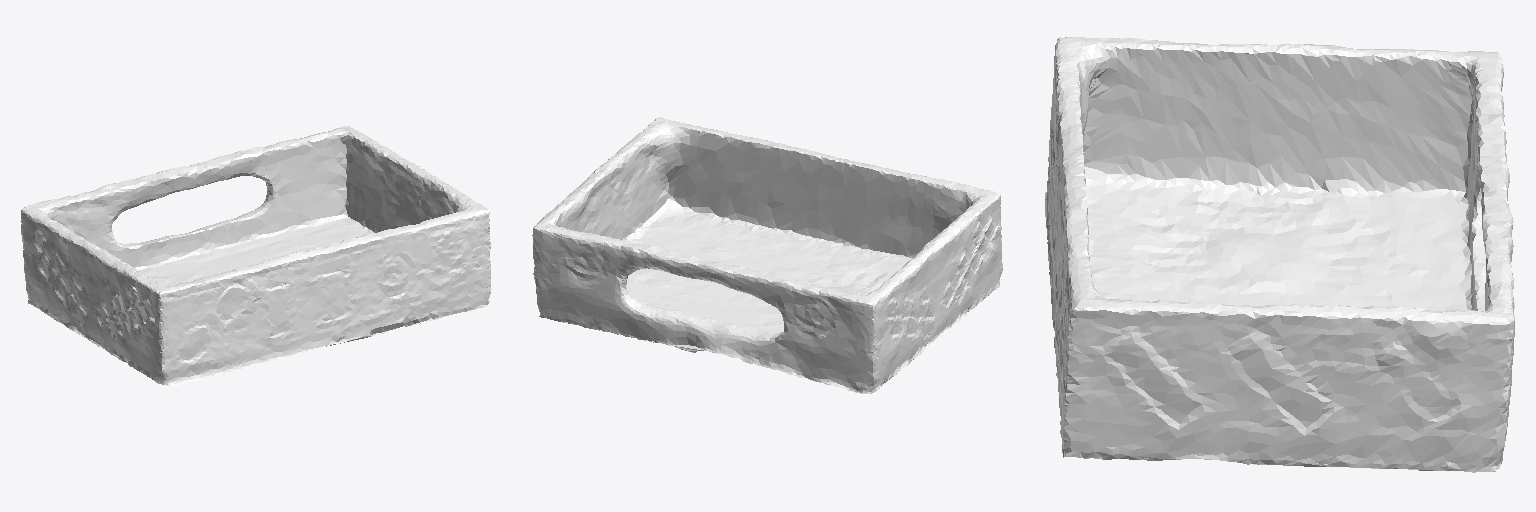
robot.urdf — boxlidright:
<?xml version="1.0" ?>
<robot name="boxlidright">
 <link name="baseLink">
   <contact>
     <lateral_friction value="0.5"/>
   </contact>
   <inertial>
     <origin rpy="0 0 0" xyz="-0.060082 -0.010718 0.034024"/>
      <mass value="1.0"/>
      <inertia ixx="0.000000" ixy="-0.000000" ixz="-0.000000" iyy="0.000000" iyz="0.000000" izz="0.000001"/>
   </inertial>
   <visual>
     <origin rpy="0 0 0" xyz="0 0 0"/>
     <geometry>
       <mesh filename="boxlidright.obj" scale="1.0 1.0 1.0"/>
     </geometry>
      <material name="white">
       <color rgba="1 1 1 1"/>
     </material>
   </visual>
   <collision>
     <origin rpy="0 0 0" xyz="0 0 0"/>
     <geometry>
       <mesh filename="boxlidright_vhacd2.obj" scale="1.0 1.0 1.0"/>
     </geometry>
   </collision>
 </link>
</robot>

--- What the picture shows (computed from the rendered views, not written in the file) ---
The picture shows the robot from 3 angles, left to right: view 1: azimuth 30°, elevation 25°; view 2: azimuth 150°, elevation 25°; view 3: azimuth 270°, elevation 25°; orthographic projection.
Robot: boxlidright — 1 links, 0 joints (none); root link baseLink; default pose: all joints at 0.
Visible links, largest first — view 1: baseLink; view 2: baseLink; view 3: baseLink.
Link boxes in pixels (box(x1,y1,x2,y2)): baseLink: box(21, 126, 490, 385); baseLink: box(532, 117, 1002, 394); baseLink: box(1045, 37, 1514, 474).
Size in the robot's own frame: 0.1707 by 0.1231 by 0.0509 metres.
1 mesh visuals loaded from 1 distinct referenced files (1 OBJ).